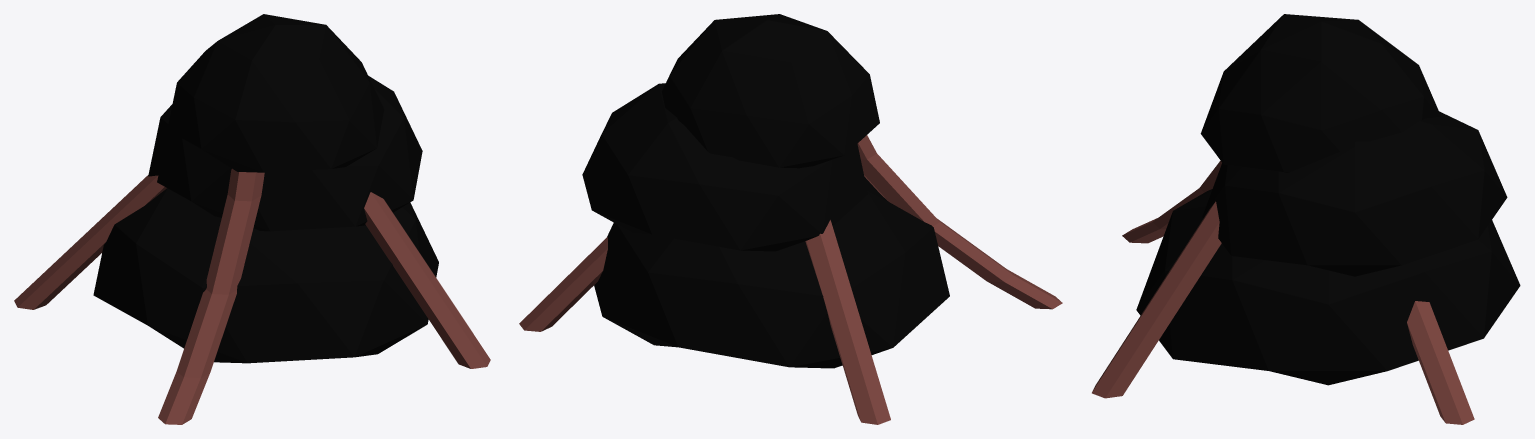
File: StrawMulch_01.fbx
The picture shows the model from 3 angles, left to right: view 1: azimuth 30°, elevation 25°; view 2: azimuth 150°, elevation 25°; view 3: azimuth 270°, elevation 25°; orthographic projection. The views are drawn at different scales.
Visible parts, largest first — view 1: StrawMulch 01; view 2: StrawMulch 01; view 3: StrawMulch 01.
Part boxes in pixels (box(x1,y1,x2,y2)): StrawMulch 01: box(14, 14, 490, 424); StrawMulch 01: box(519, 14, 1062, 424); StrawMulch 01: box(1092, 14, 1520, 424).
Bounding box in the file's own units: 150 × 112 × 138.
